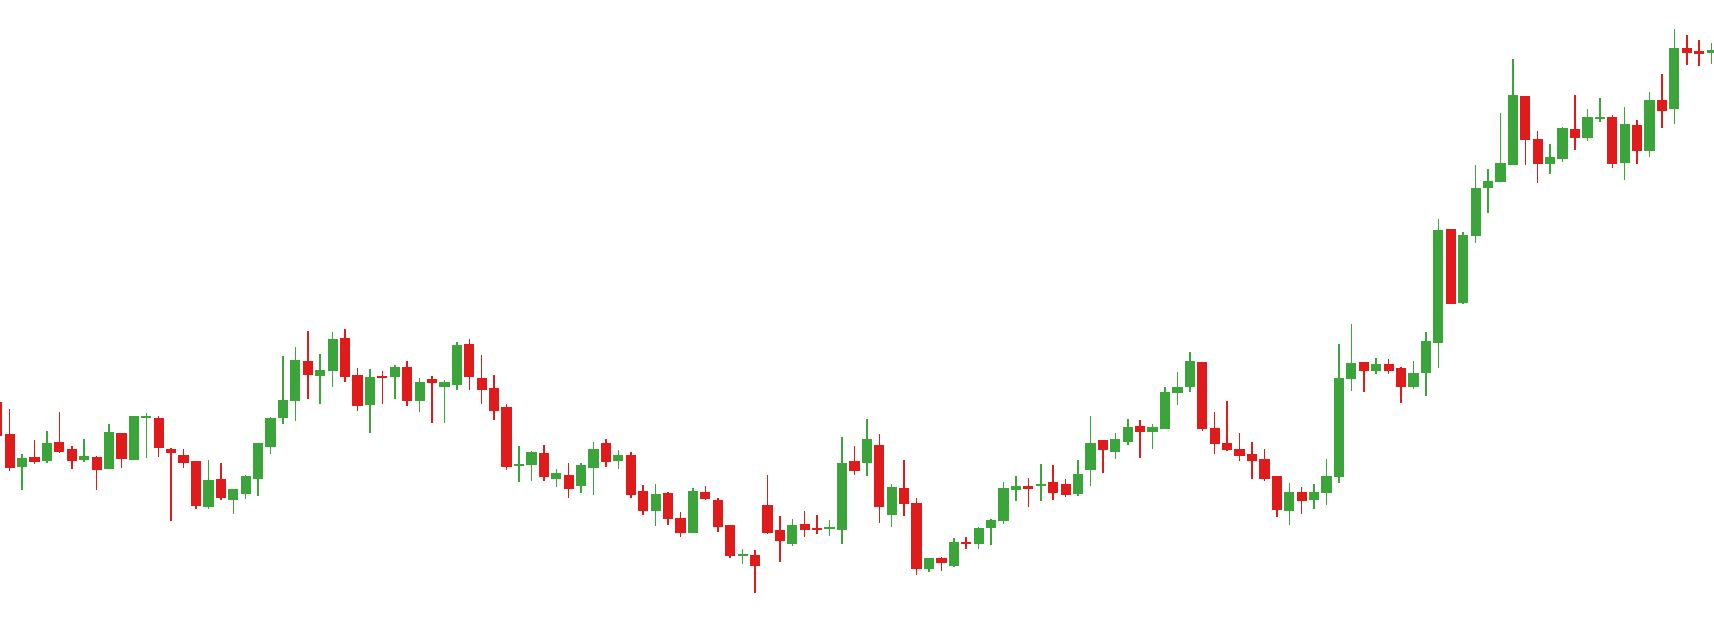buy: (1046, 423, 1296, 524), (89, 445, 216, 524)
sell: (390, 338, 476, 406)
